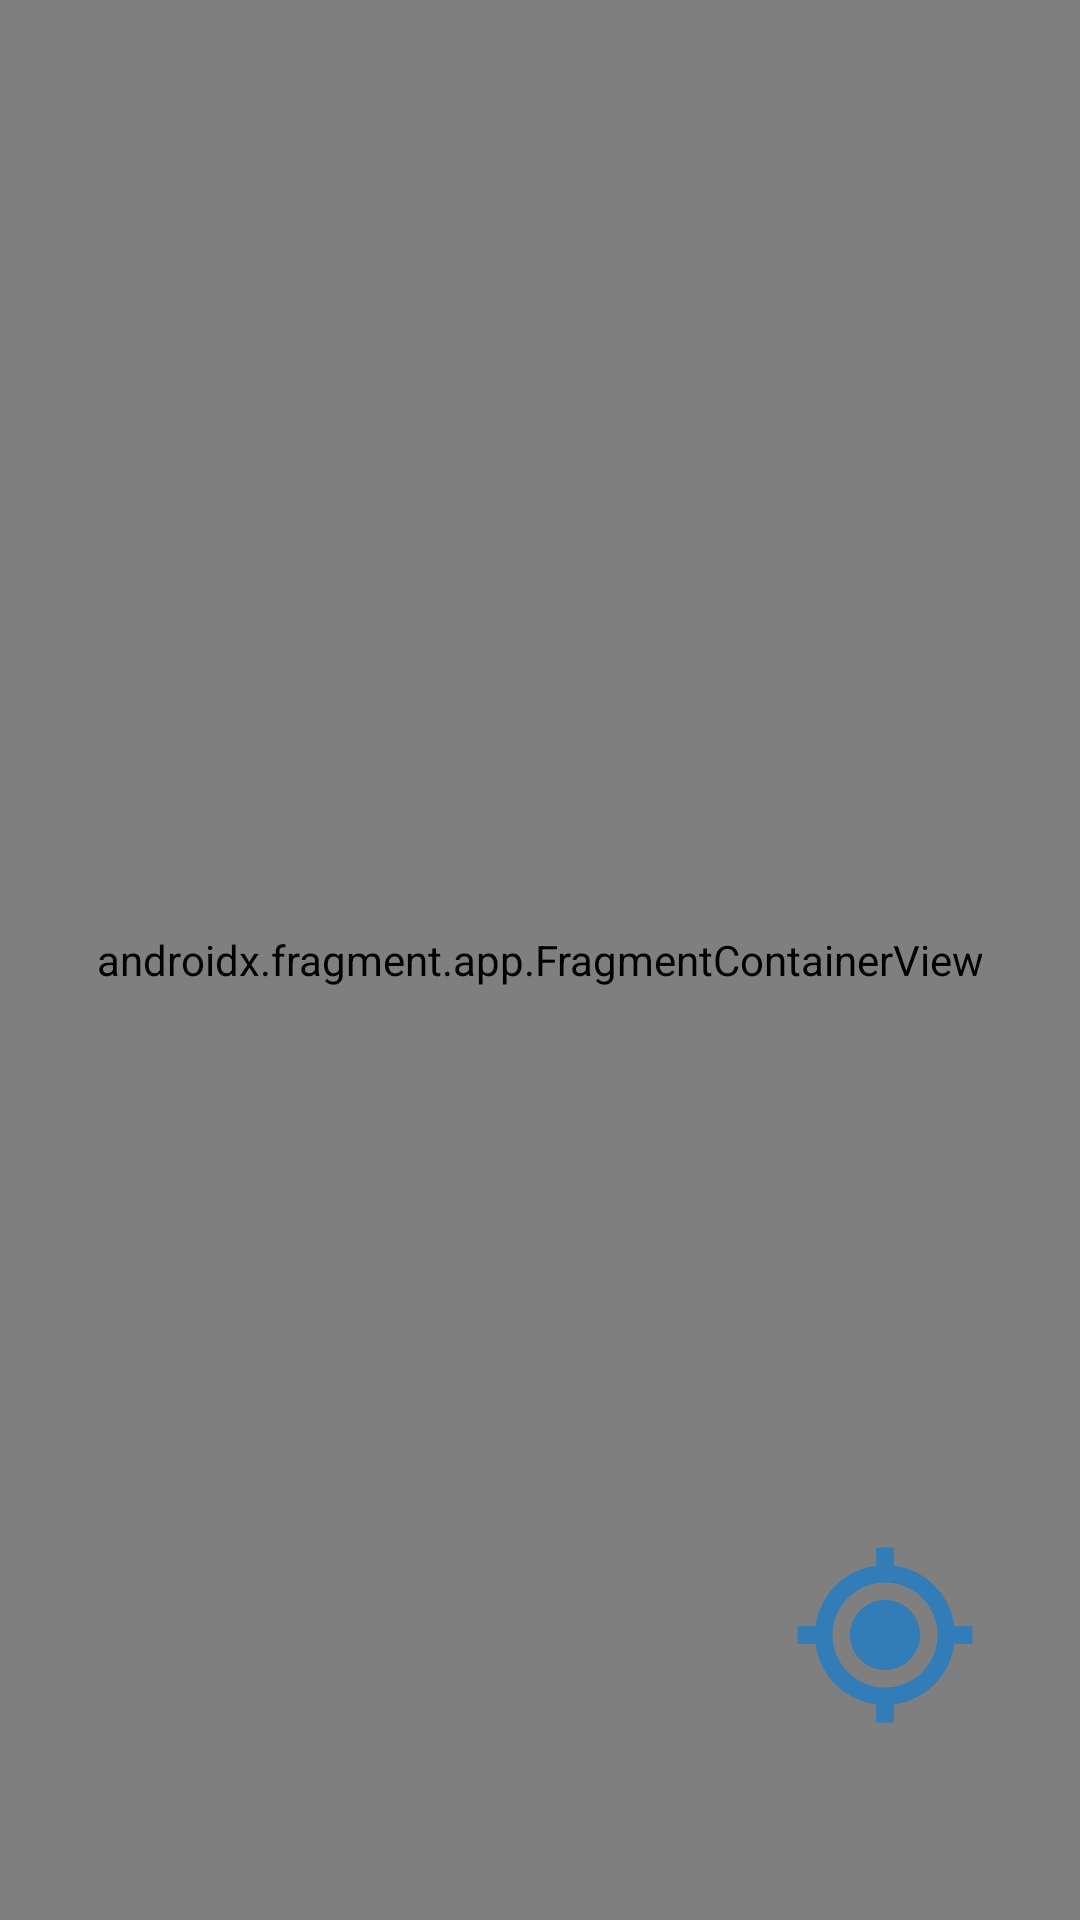

Point at icon controls on the screen. Image size 1080 x 1920, points as [x,y].
current: [885,1635]
